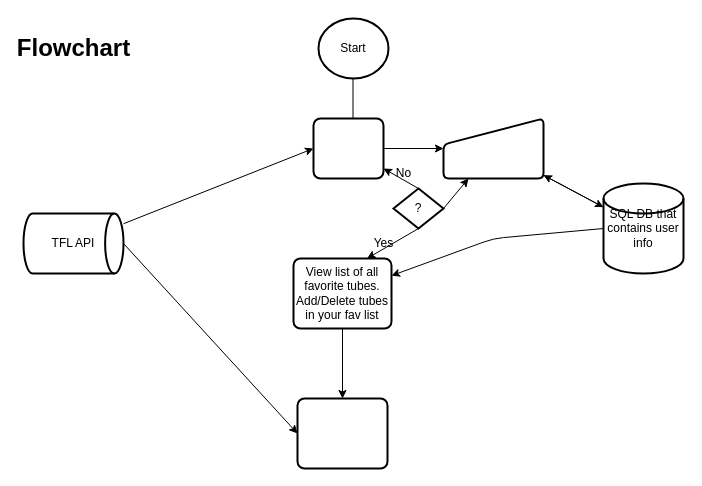
Image size: 702x486. Some labels were removed from this diagram. Each missing label, with the box of its shape:
Login/SignUp: (442, 117, 544, 179)
View all tubes list from the API: (312, 117, 384, 179)
View status of a particular train: (296, 397, 388, 469)
